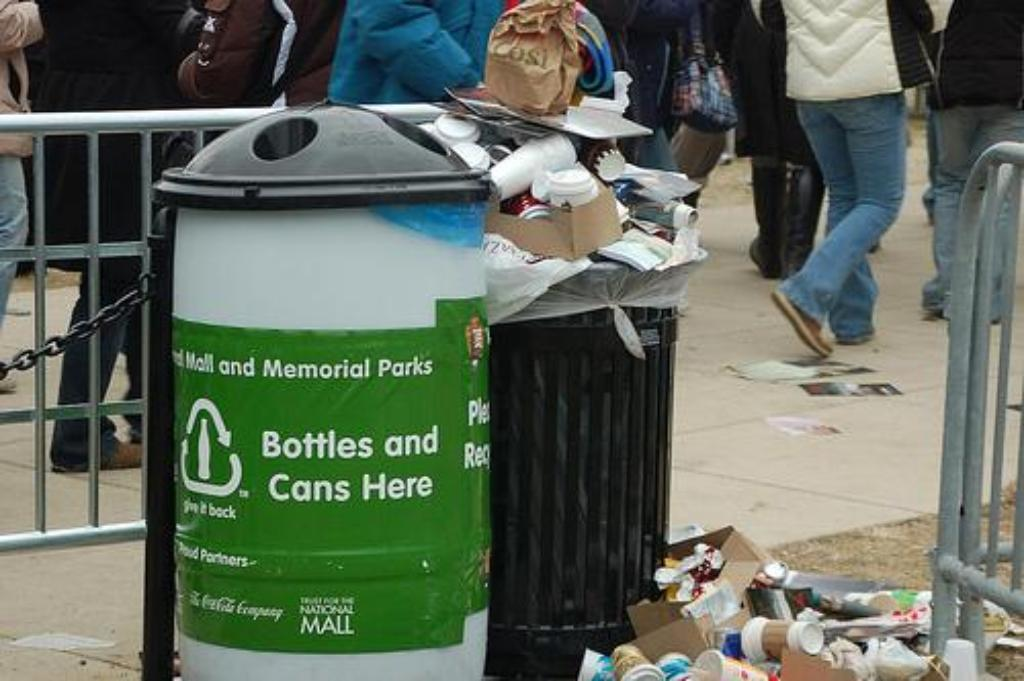dustbin: (159, 97, 498, 681)
